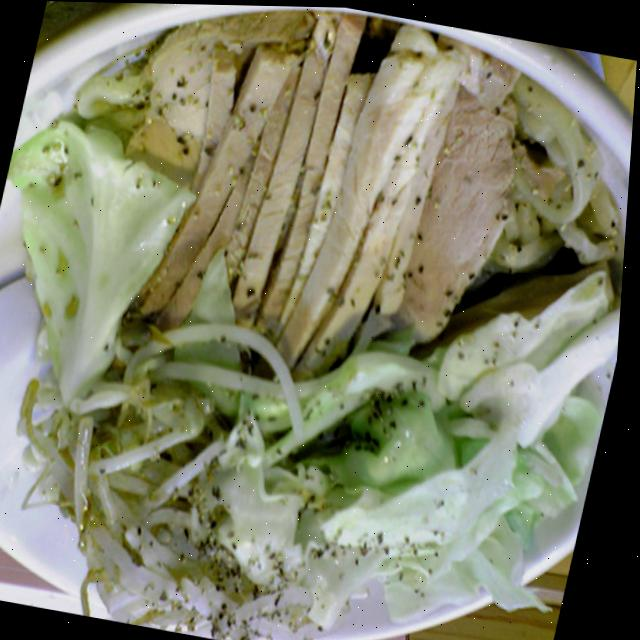面条主食: (0, 0, 640, 622)
